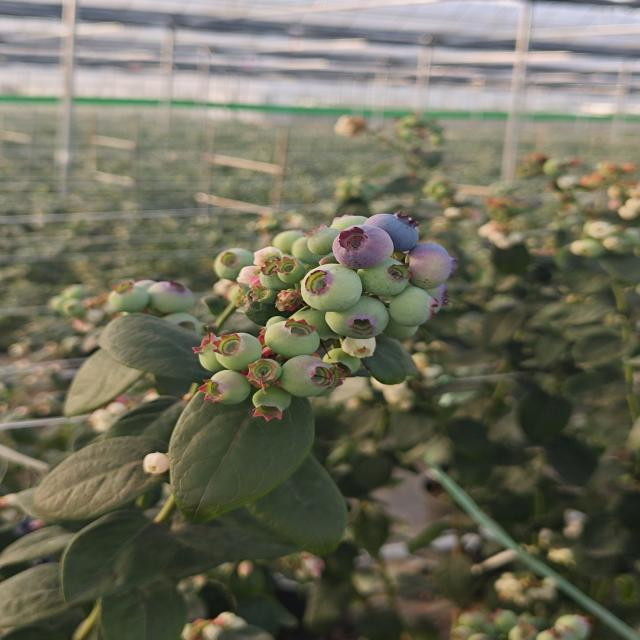ripe: (328, 223, 396, 271), (367, 209, 428, 250)
